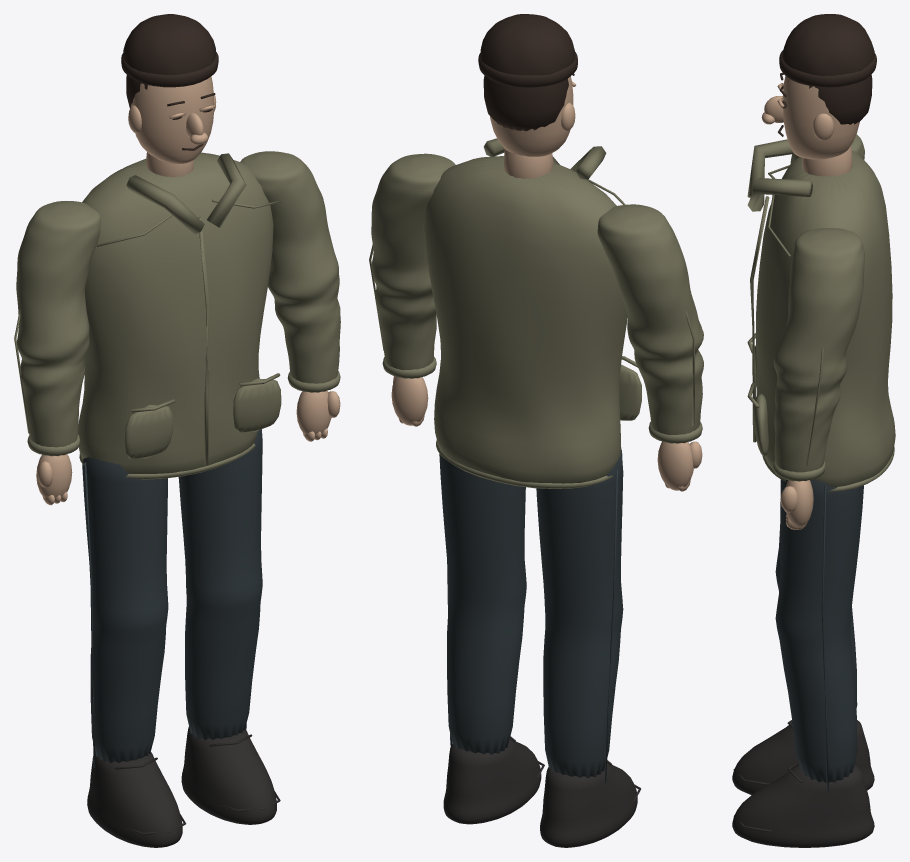
File: pedestrian-b.glb
3 views of the same model, side by side, from view 1: azimuth 30°, elevation 25°; view 2: azimuth 150°, elevation 25°; view 3: azimuth 270°, elevation 25° (orthographic). The views are drawn at different scales.
Visible parts, largest first — view 1: PedestrianB_Mesh, LeftLeg_Mesh, RightLeg_Mesh, LeftArm_Mesh, RightArm_Mesh, Head_Mesh; view 2: PedestrianB_Mesh, LeftLeg_Mesh, RightLeg_Mesh, LeftArm_Mesh, RightArm_Mesh, Head_Mesh; view 3: RightLeg_Mesh, PedestrianB_Mesh, RightArm_Mesh, Head_Mesh, LeftLeg_Mesh.
Boxes of the visible parts, x1,y1,x2,y2 form: PedestrianB_Mesh: (77, 152, 281, 479); LeftLeg_Mesh: (82, 456, 186, 847); RightLeg_Mesh: (178, 429, 280, 824); LeftArm_Mesh: (14, 201, 100, 505); RightArm_Mesh: (240, 151, 340, 441); Head_Mesh: (121, 14, 218, 177); PedestrianB_Mesh: (423, 138, 641, 488); LeftLeg_Mesh: (536, 450, 640, 847); RightLeg_Mesh: (439, 454, 544, 824); LeftArm_Mesh: (597, 204, 703, 491); RightArm_Mesh: (369, 153, 455, 426); Head_Mesh: (478, 14, 577, 178); RightLeg_Mesh: (732, 479, 874, 847); PedestrianB_Mesh: (747, 139, 895, 491); RightArm_Mesh: (773, 228, 864, 529); Head_Mesh: (761, 14, 876, 176); LeftLeg_Mesh: (732, 501, 874, 794).
Bounding box in the file's own units: 0.7566 × 1.78 × 0.3328.
